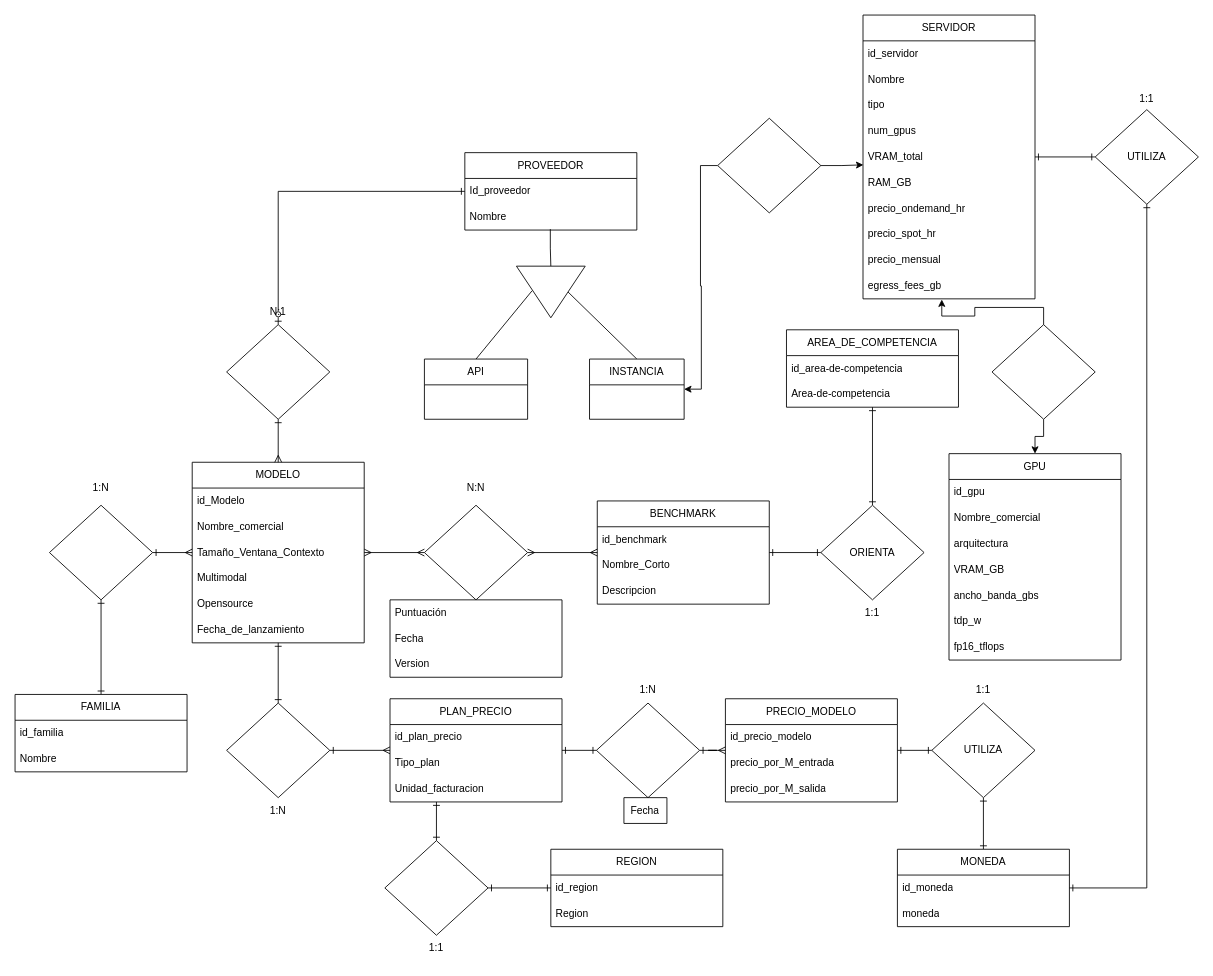
Image size: 1213x976. Some labels were removed from this diagram. Here are the shapes that lost their labels. From the top down, the centre of each, then its label:
the point at 769,165: PROVEE
the point at 278,371: DISPONE
the point at 1043,371: USA
the point at 101,552: FORMA PARTE
the point at 476,552: REALIZA
the point at 278,750: ESCOGE
the point at 648,750: DETALLA
the point at 436,887: ESPECIFICA
